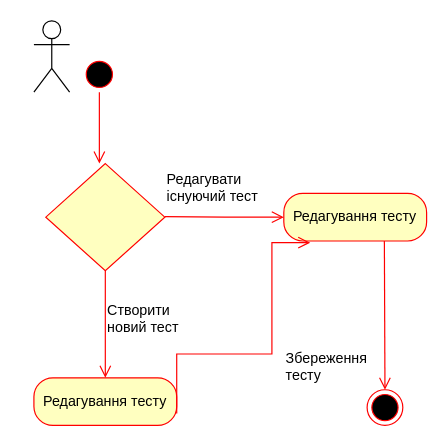
The diagram is 447 pixels wide and 446 high, and some of its shapes have lost their labels. The box of each missing label's shape, as (x1, y1, x2, y2) in pixels:
Авторизований користувач: (45, 162, 165, 271)
викладач: (33, 20, 70, 92)
